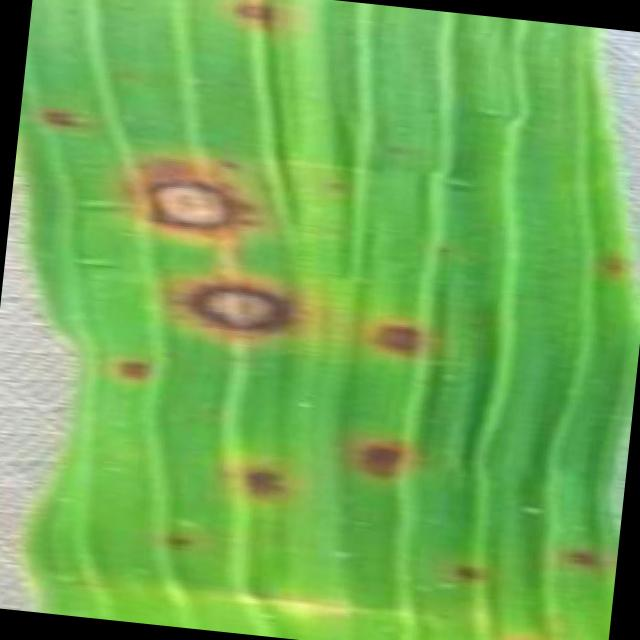Rice_Brownspot: (141, 244, 322, 370), (108, 138, 280, 252), (335, 421, 424, 491), (356, 299, 433, 372), (228, 455, 294, 506), (107, 340, 158, 390), (219, 0, 289, 36), (34, 97, 96, 135), (442, 552, 492, 587), (554, 536, 604, 571), (590, 242, 632, 280), (380, 131, 423, 163), (150, 523, 193, 553), (209, 147, 250, 175), (496, 626, 570, 640), (316, 168, 352, 196), (433, 238, 458, 258)
